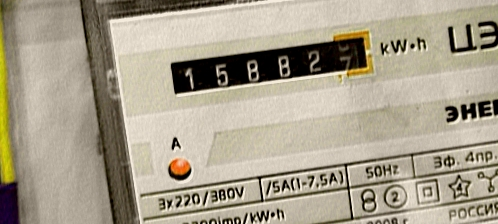1: (183, 64, 199, 92)
2: (306, 48, 325, 74)
5: (214, 61, 232, 89)
7: (338, 53, 355, 71)
8: (245, 57, 264, 84), (277, 53, 295, 79)
screen: (160, 24, 385, 109)
